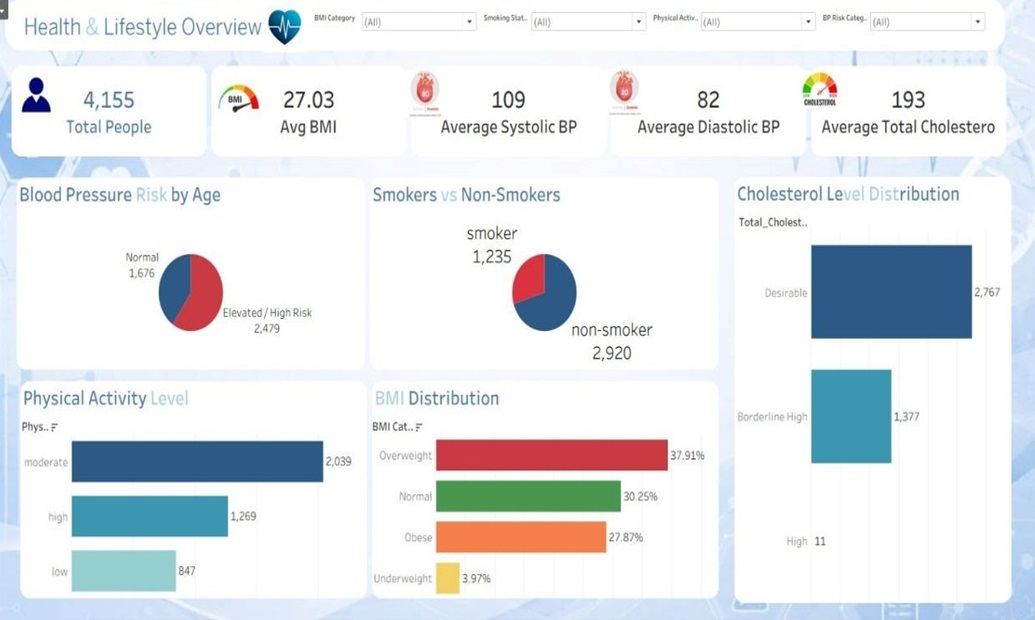

What the dashboard file says about the page in this screenshot:
{"tool":"tableau","page":{"name":"Health & Lifestyle Overview","canvas":[1900,900],"ordinal":0},"visuals":[{"type":"blank","box":[15,14,1575,69]},{"type":"image","box":[422,19,87,66]},{"type":"filter","title":"BMI Distribution","param":"[federated.07gievh1sk6lhu12t1mj60p64lb2].[none:BMI_Category:nk]","box":[498,25,267,46]},{"type":"filter","title":"Smokers vs Non-Smokers","param":"[federated.07gievh1sk6lhu12t1mj60p64lb2].[none:Smoking_Status:nk]","box":[765,25,267,46]},{"type":"filter","title":"Physical Activity Level","param":"[federated.07gievh1sk6lhu12t1mj60p64lb2].[none:Physical_Activity_Level:nk]","box":[1032,25,267,46]},{"type":"filter","title":"Blood Pressure Risk by Age","param":"[federated.07gievh1sk6lhu12t1mj60p64lb2].[none:BP_Risk_Category:nk]","box":[1299,25,267,46]},{"type":"text","box":[41,28,437,45]},{"type":"worksheet","title":"KPI_TotalPeople","mark":"Automatic","box":[21,99,315,127]},{"type":"worksheet","title":"KPI_AvgBMI","mark":"Automatic","box":[336,99,315,127]},{"type":"worksheet","title":"KPI_AvgSystolic","mark":"Automatic","box":[651,99,315,127]},{"type":"worksheet","title":"KPI_AvgDiastolic","mark":"Automatic","box":[966,99,315,127]},{"type":"worksheet","title":"KPI_AvgCholesterol","mark":"Automatic","box":[1281,99,315,127]},{"type":"image","box":[663,109,78,64]},{"type":"image","box":[980,109,78,64]},{"type":"image","box":[1296,109,72,54]},{"type":"image","param":"Image/avatar-svgrepo-com.svg","box":[36,113,62,56]},{"type":"image","box":[340,113,85,66]},{"type":"worksheet","title":"Blood Pressure Risk by Age","mark":"Pie","box":[29,246,557,261]},{"type":"worksheet","title":"Smokers vs Non-Smokers","mark":"Pie","box":[586,246,557,261]},{"type":"worksheet","title":"Cholesterol Level Distribution","mark":"Bar","rows":["Calculation_1249903698968580"],"cols":["Age"],"box":[1164,249,436,561]},{"type":"worksheet","title":"Physical Activity Level","mark":"Bar","rows":["Physical_Activity_Level"],"cols":["Age"],"box":[35,514,554,294]},{"type":"worksheet","title":"BMI Distribution","mark":"Bar","rows":["BMI_Category"],"cols":["Age"],"box":[589,514,554,294]}]}

Visuals, with their boxes on the page's 1900x900 design canvas (x1, y1, x2, y2). These are canvas units, not pixel positions in the 1035x620 screenshot, which may show the page scaled, cropped or inside an application window:
blank: {"left": 15, "top": 14, "right": 1590, "bottom": 83}
image: {"left": 422, "top": 19, "right": 509, "bottom": 85}
"BMI Distribution" filter: {"left": 498, "top": 25, "right": 765, "bottom": 71}
"Smokers vs Non-Smokers" filter: {"left": 765, "top": 25, "right": 1032, "bottom": 71}
"Physical Activity Level" filter: {"left": 1032, "top": 25, "right": 1299, "bottom": 71}
"Blood Pressure Risk by Age" filter: {"left": 1299, "top": 25, "right": 1566, "bottom": 71}
text: {"left": 41, "top": 28, "right": 478, "bottom": 73}
"KPI_TotalPeople" worksheet: {"left": 21, "top": 99, "right": 336, "bottom": 226}
"KPI_AvgBMI" worksheet: {"left": 336, "top": 99, "right": 651, "bottom": 226}
"KPI_AvgSystolic" worksheet: {"left": 651, "top": 99, "right": 966, "bottom": 226}
"KPI_AvgDiastolic" worksheet: {"left": 966, "top": 99, "right": 1281, "bottom": 226}
"KPI_AvgCholesterol" worksheet: {"left": 1281, "top": 99, "right": 1596, "bottom": 226}
image: {"left": 663, "top": 109, "right": 741, "bottom": 173}
image: {"left": 980, "top": 109, "right": 1058, "bottom": 173}
image: {"left": 1296, "top": 109, "right": 1368, "bottom": 163}
image: {"left": 36, "top": 113, "right": 98, "bottom": 169}
image: {"left": 340, "top": 113, "right": 425, "bottom": 179}
"Blood Pressure Risk by Age" worksheet (Pie marks): {"left": 29, "top": 246, "right": 586, "bottom": 507}
"Smokers vs Non-Smokers" worksheet (Pie marks): {"left": 586, "top": 246, "right": 1143, "bottom": 507}
"Cholesterol Level Distribution" worksheet (Bar marks): {"left": 1164, "top": 249, "right": 1600, "bottom": 810}
"Physical Activity Level" worksheet (Bar marks): {"left": 35, "top": 514, "right": 589, "bottom": 808}
"BMI Distribution" worksheet (Bar marks): {"left": 589, "top": 514, "right": 1143, "bottom": 808}
